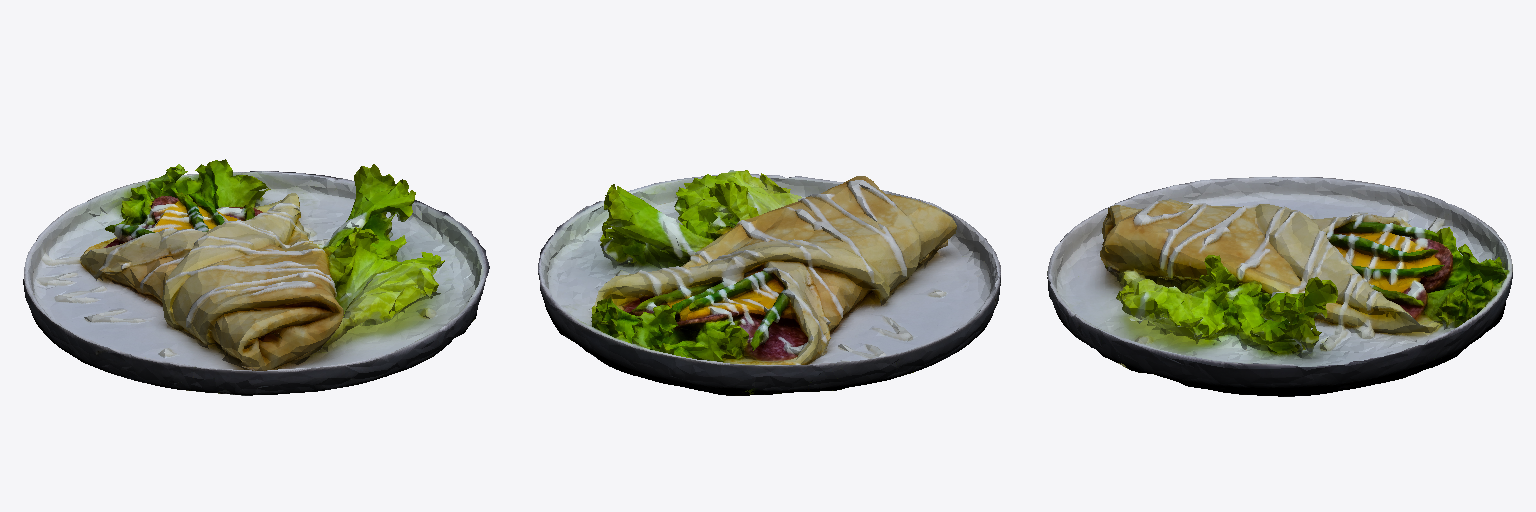
The picture shows the model from 3 angles: view 1: azimuth 30°, elevation 25°; view 2: azimuth 150°, elevation 25°; view 3: azimuth 270°, elevation 25°; orthographic projection.
Parts seen in each view (by area): view 1: default; view 2: default; view 3: default.
Boxes of the visible parts, box(x1,y1,x2,y2) form: default: box(23, 159, 489, 395); default: box(538, 170, 1000, 395); default: box(1047, 176, 1512, 396).
Bounding box in the file's own units: 19.43 × 4.23 × 19.44.
Materials: 1 (1 with a texture image).